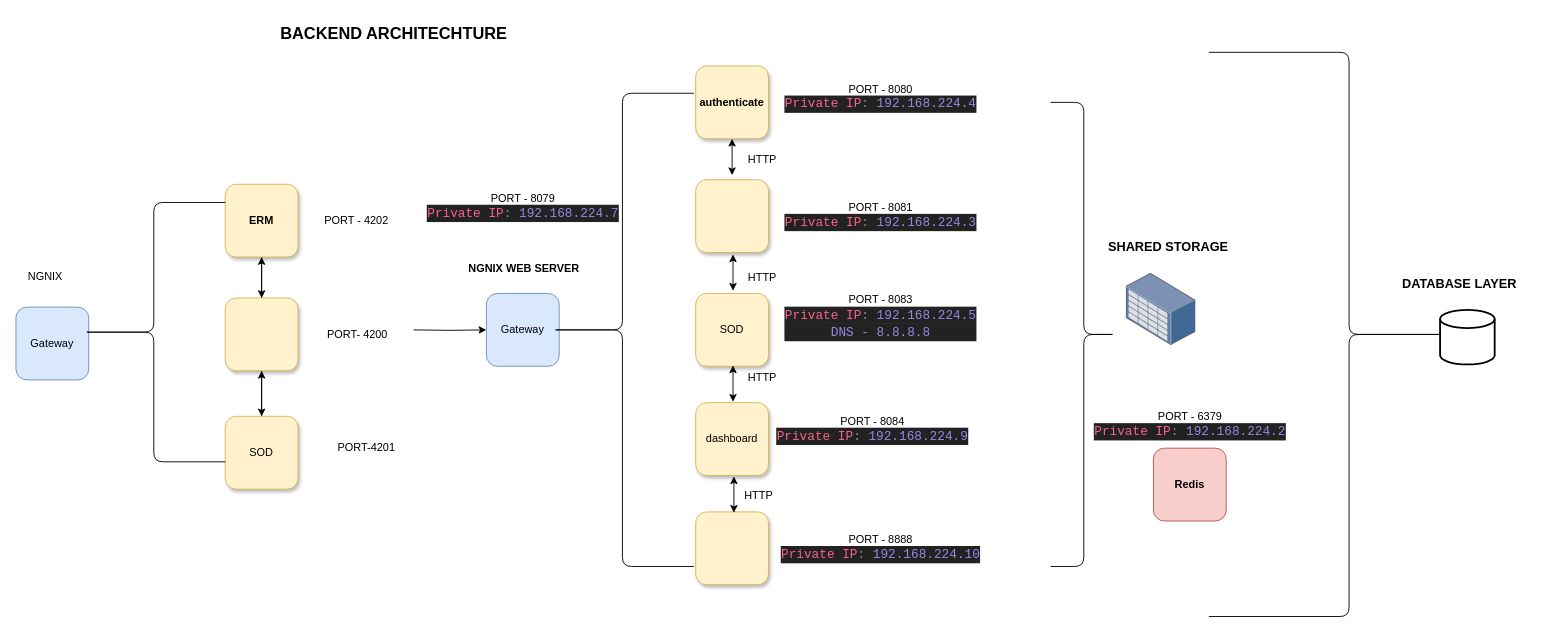
This 1543x632 diagram has some shape labels left out. Here are the shapes that lost their labels. From the top down, the centre of each, then its label:
At [732,217]: "common".
At [262,335]: "Shell".
At [1467,336]: "DB".
At [732,549]: "ia".
